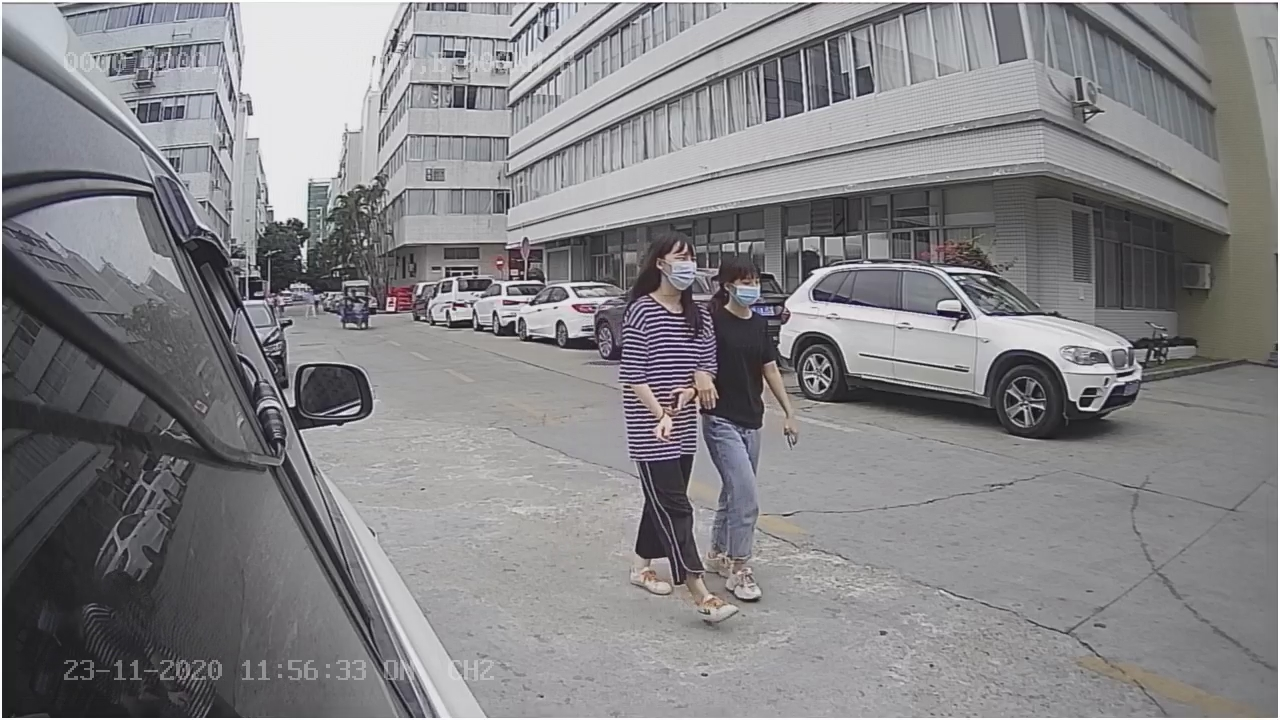person: (610, 228, 741, 634), (691, 257, 775, 607)
